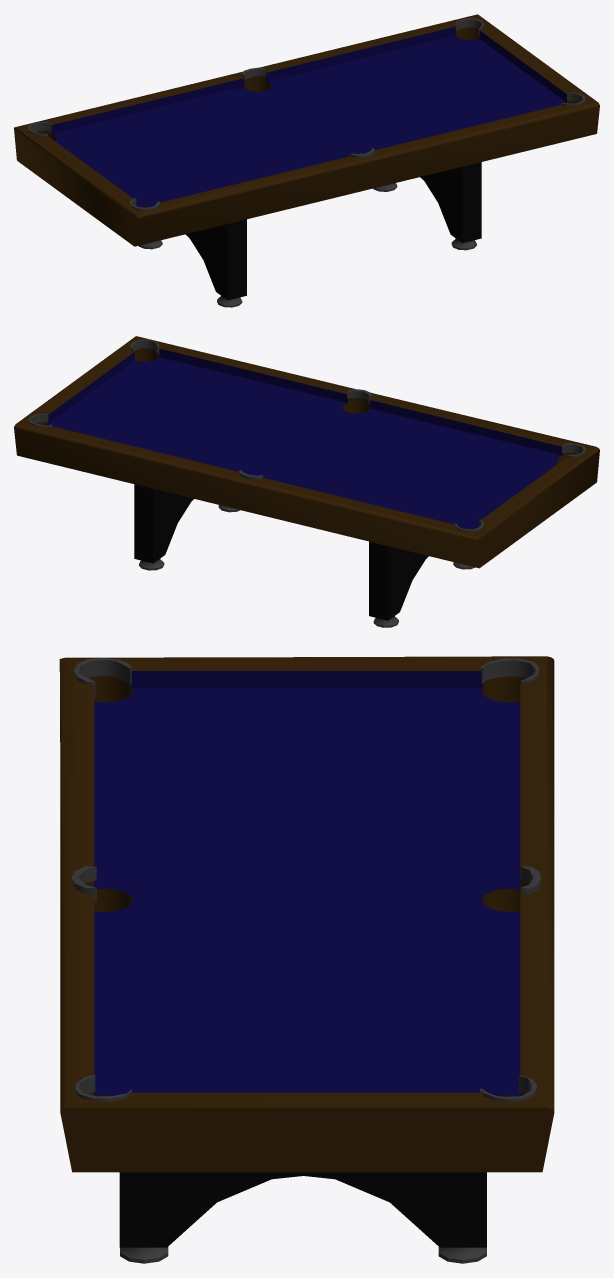
File: Mesa.fbx
The picture shows the model from 3 angles, top to bottom: view 1: azimuth 30°, elevation 25°; view 2: azimuth 150°, elevation 25°; view 3: azimuth 270°, elevation 25°; orthographic projection. The views are drawn at different scales.
Visible parts, largest first — view 1: Mesa, Pata2, Pata1; view 2: Mesa, Pata2, Pata1; view 3: Mesa, Pata2, Base2.
Boxes of the visible parts, x1,y1,x2,y2 form: Mesa: (14,14,599,246); Pata2: (420,162,481,242); Pata1: (185,219,246,300); Mesa: (14,336,599,568); Pata2: (134,484,193,563); Pata1: (369,541,428,620); Mesa: (59,656,554,1172); Pata2: (119,1172,486,1247); Base2: (120,1247,486,1263).
Size of the model in its own units: 171 by 46.49 by 79.13.
